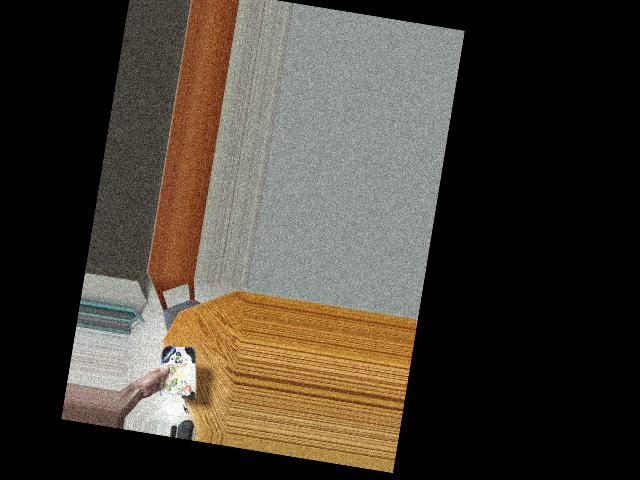cheese: (156, 345, 199, 396)
